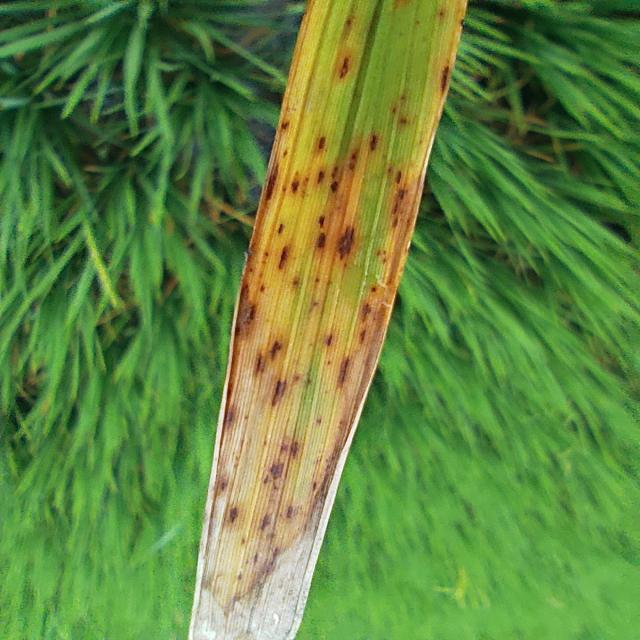Narrow_Brown_Leaf_Spot: (188, 22, 469, 637)
